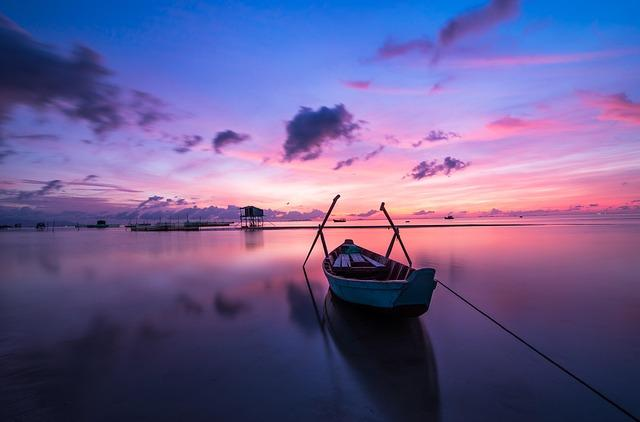Non_Gorille: (154, 35, 540, 389)
